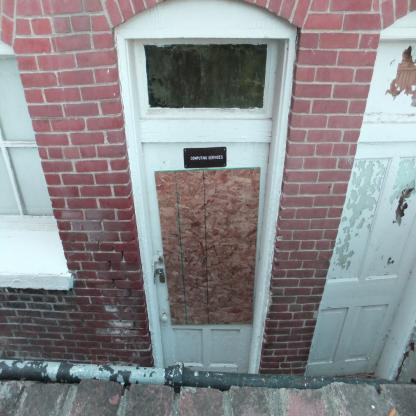door: (142, 145, 266, 373)
knob: (161, 313, 168, 325)
